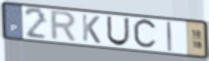2: (23, 6, 50, 41)
C: (132, 18, 159, 51)
I: (166, 20, 174, 52)
K: (80, 13, 102, 45)
R: (50, 9, 79, 44)
U: (106, 16, 131, 47)
